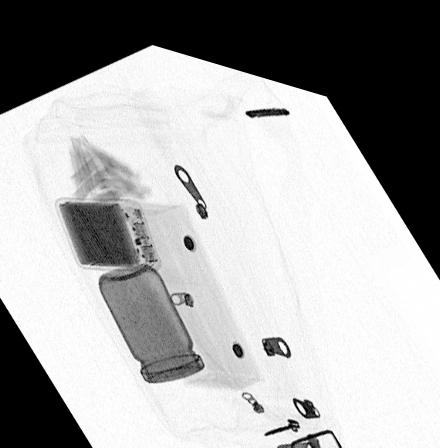Powerbank: (54, 190, 162, 266)
